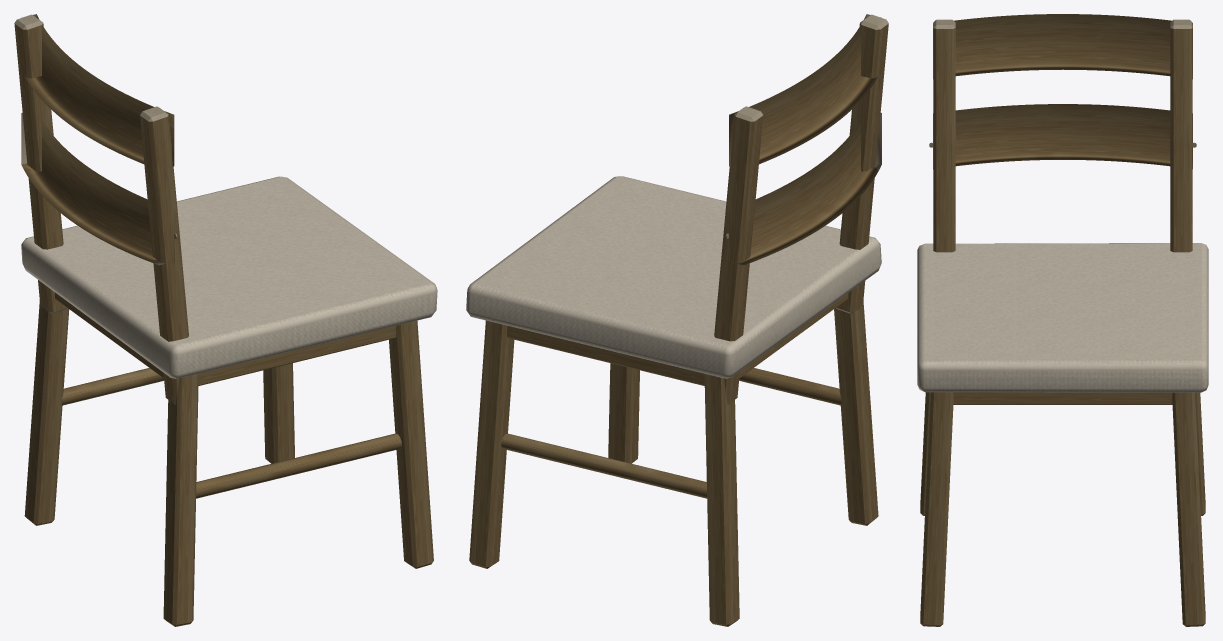
The picture shows the model from 3 angles, left to right: view 1: azimuth 30°, elevation 25°; view 2: azimuth 150°, elevation 25°; view 3: azimuth 270°, elevation 25°; orthographic projection. The views are drawn at different scales.
Visible parts, largest first — view 1: Mesh_warm, Mesh_linen, Mesh_endgrain; view 2: Mesh_warm, Mesh_linen, Mesh_endgrain; view 3: Mesh_warm, Mesh_linen, Mesh_endgrain.
Part boxes in pixels (x1,y1,x2,y2): Mesh_warm: [14, 14, 433, 626]; Mesh_linen: [21, 176, 437, 378]; Mesh_endgrain: [14, 14, 177, 404]; Mesh_warm: [469, 14, 888, 626]; Mesh_linen: [466, 176, 881, 378]; Mesh_endgrain: [726, 14, 888, 404]; Mesh_warm: [920, 14, 1205, 626]; Mesh_linen: [917, 243, 1208, 392]; Mesh_endgrain: [929, 19, 1196, 168].
Size of the model in its own units: 0.5013 by 0.8323 by 0.455.
3 materials, 3 textured.
